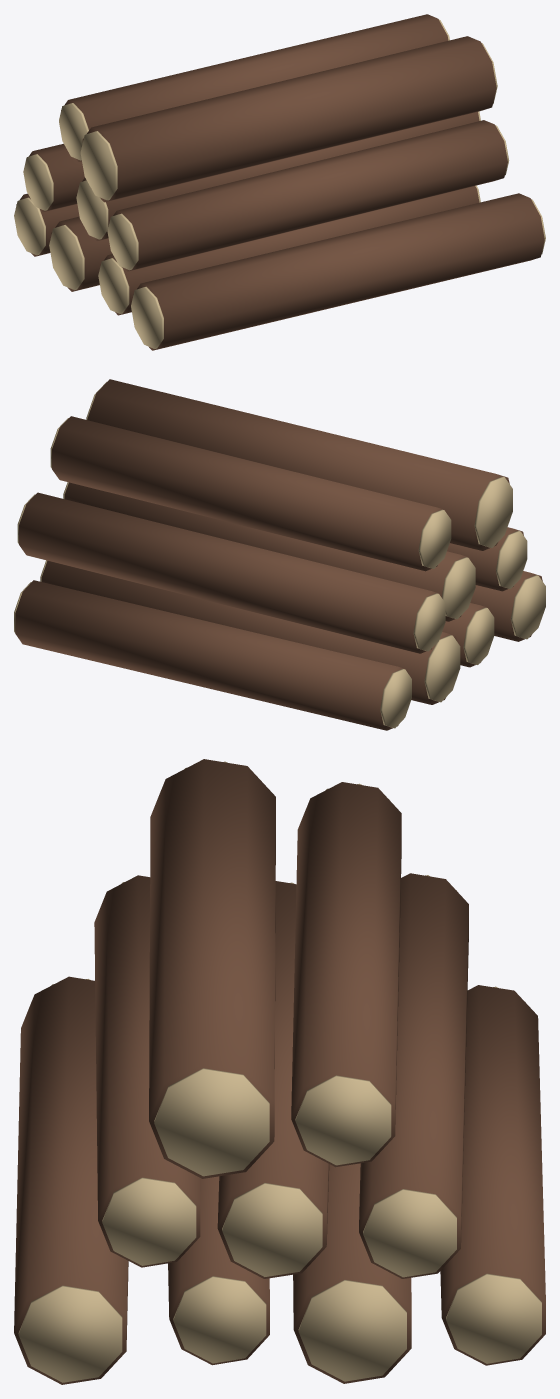
File: log_pile.glb
3 views of the same model, one above another, from view 1: azimuth 30°, elevation 25°; view 2: azimuth 150°, elevation 25°; view 3: azimuth 270°, elevation 25° (orthographic). The views are drawn at different scales.
Visible parts, largest first — view 1: log; view 2: log; view 3: log.
Boxes of the visible parts, <box> form: log: <box>14,14,545,350</box>; log: <box>14,379,545,730</box>; log: <box>14,759,545,1384</box>.
Size of the model in its own units: 2.31 by 1.08 by 1.64.
